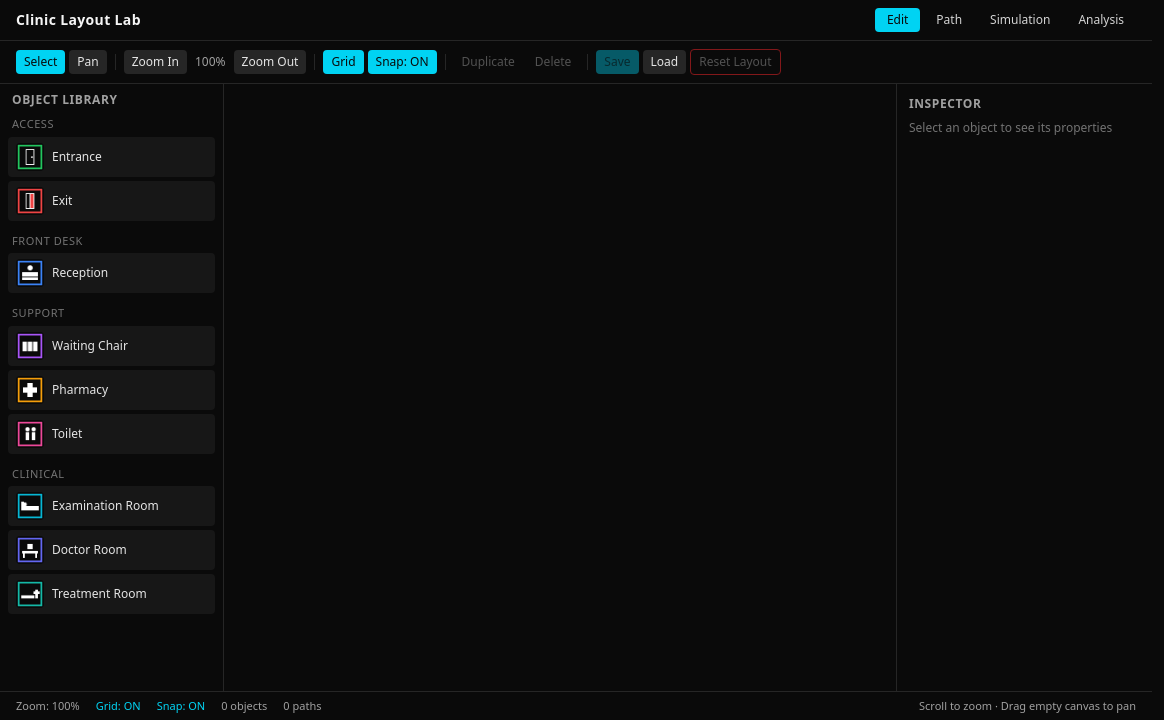
Test: EditorApp (Phase 1 UI) › duplicates the selected object with a new id (AC-008)
Click the button "Toilet" at [112, 434], box x1=8 y1=414 x2=215 y2=454
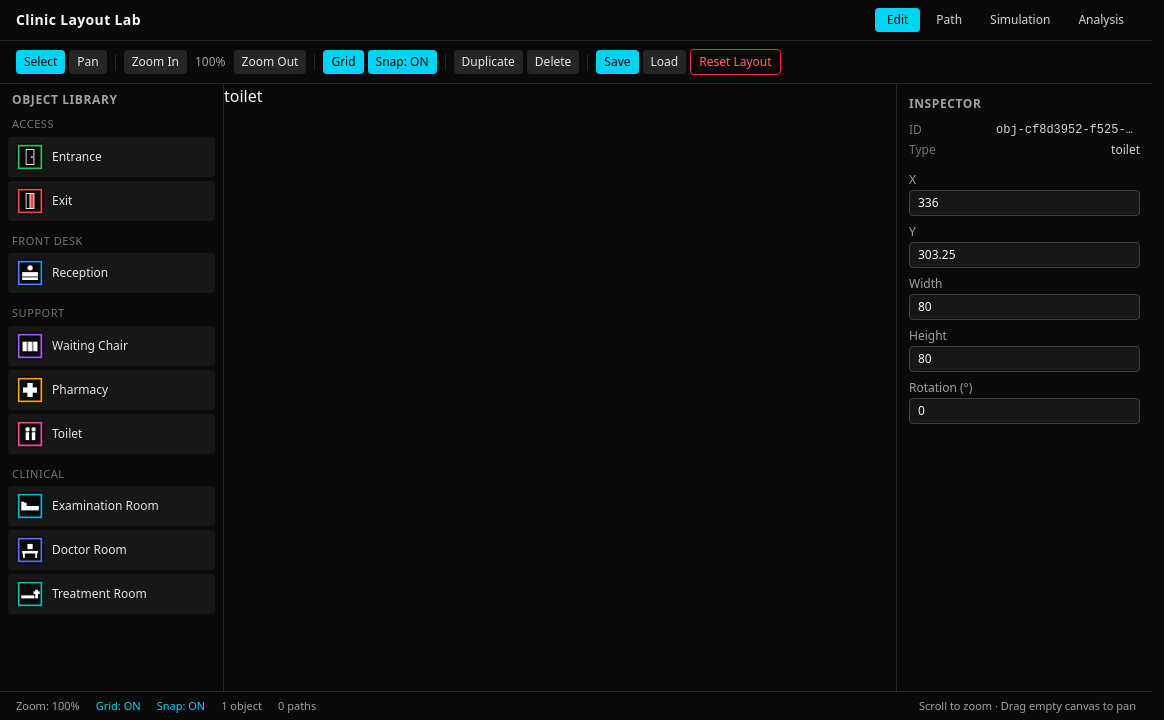
Click the button "Duplicate" at [488, 62], box x1=454 y1=50 x2=523 y2=74
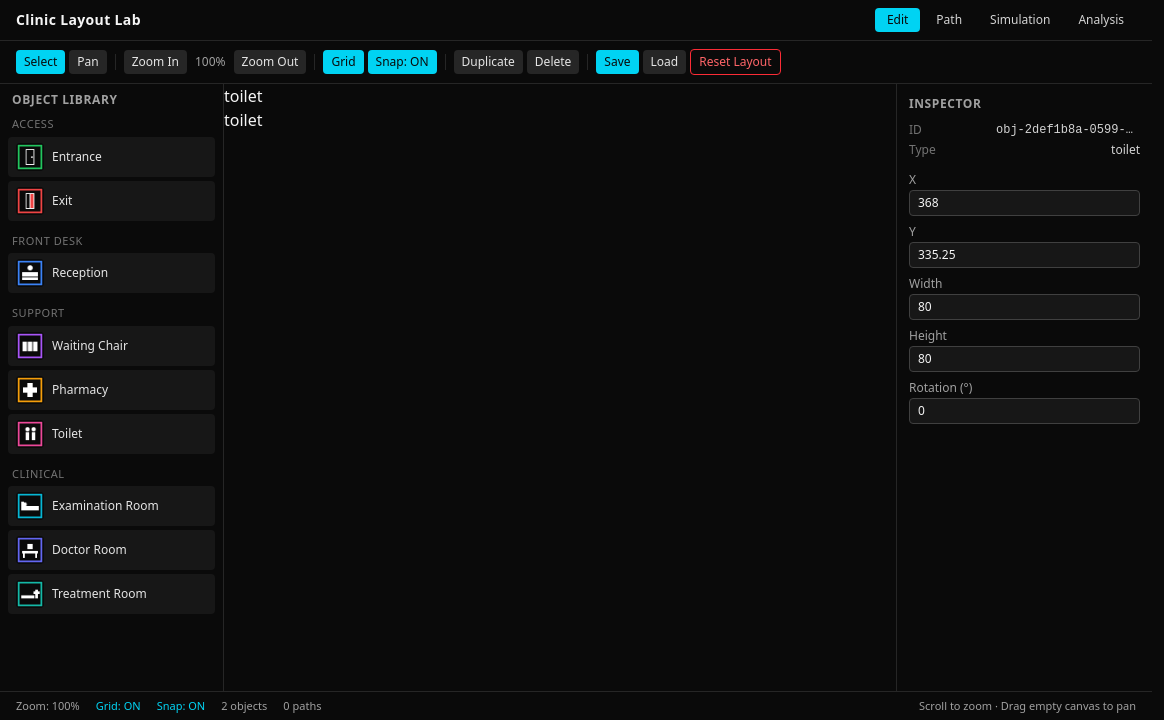
Check: the 1st text "toilet" is shown, box x1=224 y1=85 x2=262 y2=107
Check: the text "2 objects" is shown, box x1=221 y1=698 x2=267 y2=714
